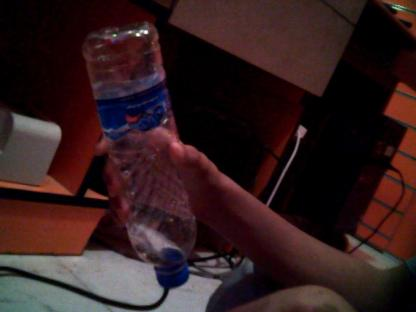Plastic Bottle: (83, 22, 220, 288)
